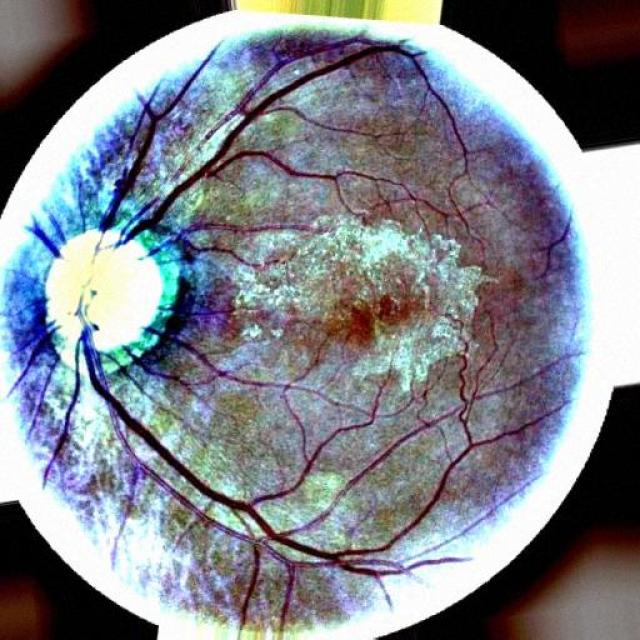Macula: (303, 278, 445, 379)
Nerves: (90, 393, 378, 587), (153, 46, 390, 211), (116, 61, 216, 203), (35, 385, 83, 488)
Optic Disk: (41, 206, 198, 381)
